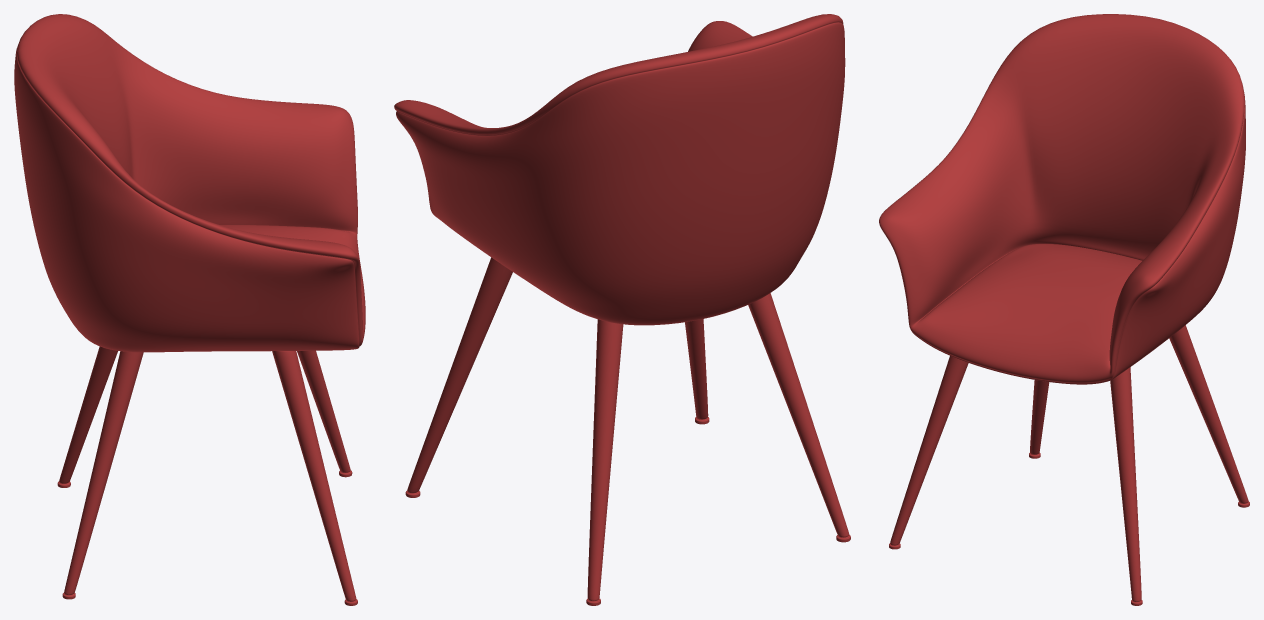
3 renders of one model, left to right at view 1: azimuth 30°, elevation 25°; view 2: azimuth 150°, elevation 25°; view 3: azimuth 270°, elevation 25°, orthographic. The views are drawn at different scales.
Visible parts, largest first — view 1: koltuk_Circle.002; view 2: koltuk_Circle.002; view 3: koltuk_Circle.002.
Part boxes in pixels (box(x1,y1,x2,y2)): koltuk_Circle.002: box(14, 14, 365, 605); koltuk_Circle.002: box(394, 14, 850, 605); koltuk_Circle.002: box(879, 14, 1249, 605).
Size of the model in its own units: 0.6964 by 0.9401 by 0.7078.
